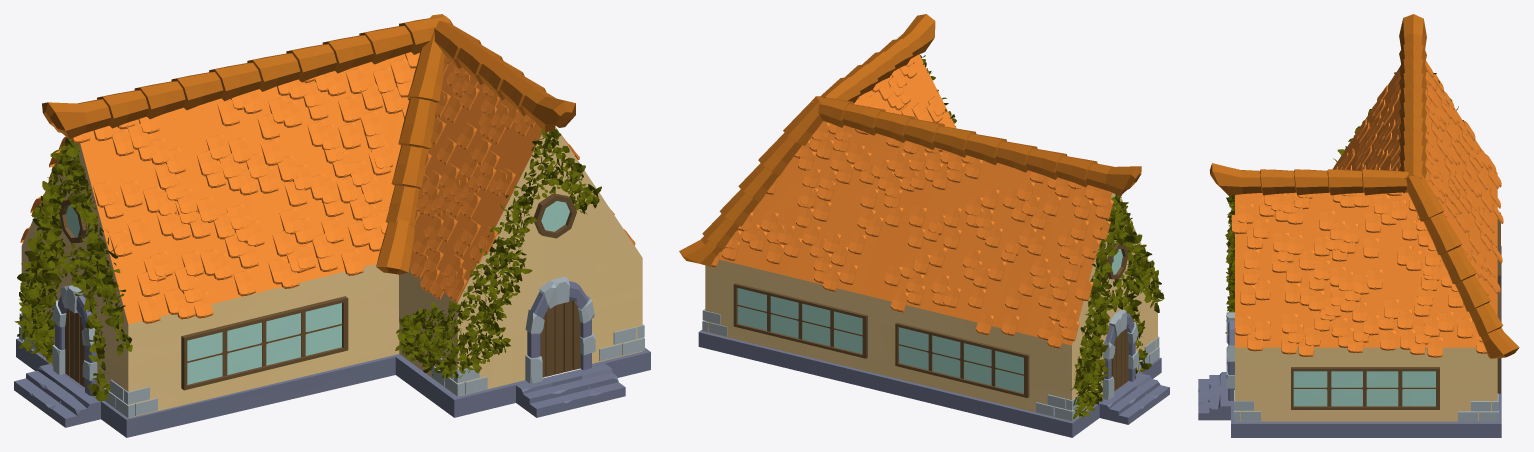
Rendered from mod_BG_House.fbx.
The picture shows the model from 3 angles, left to right: view 1: azimuth 30°, elevation 25°; view 2: azimuth 150°, elevation 25°; view 3: azimuth 270°, elevation 25°; orthographic projection. The views are drawn at different scales.
Visible parts, largest first — view 1: House; view 2: House; view 3: House.
Boxes of the visible parts, x1,y1,x2,y2 form: House: [14, 14, 650, 437]; House: [679, 14, 1169, 437]; House: [1198, 14, 1519, 437].
Bounding box in the file's own units: 318 × 177 × 217.
